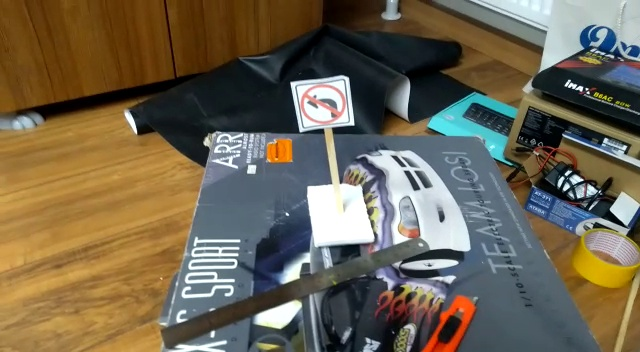sola_donulmez: (302, 76, 350, 127)
